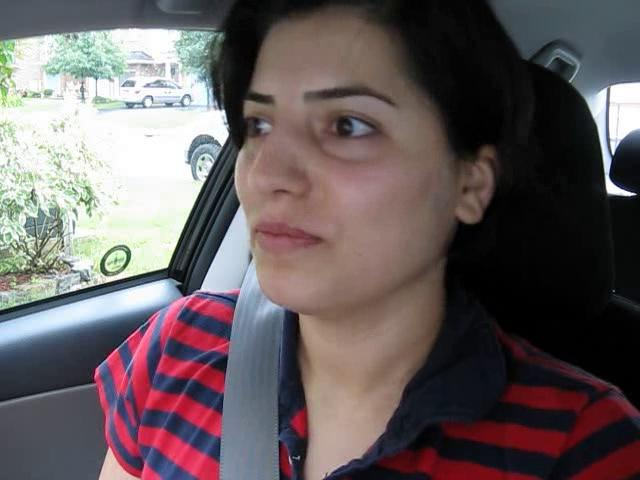no_yawn: (237, 206, 343, 270)
open_eyeL: (233, 102, 290, 147)
open_eyeR: (307, 97, 402, 158)
